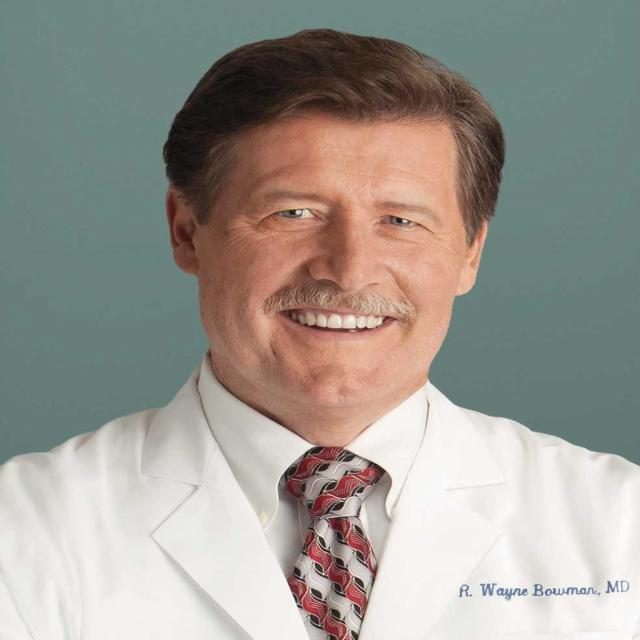nomask: (206, 123, 462, 404)
